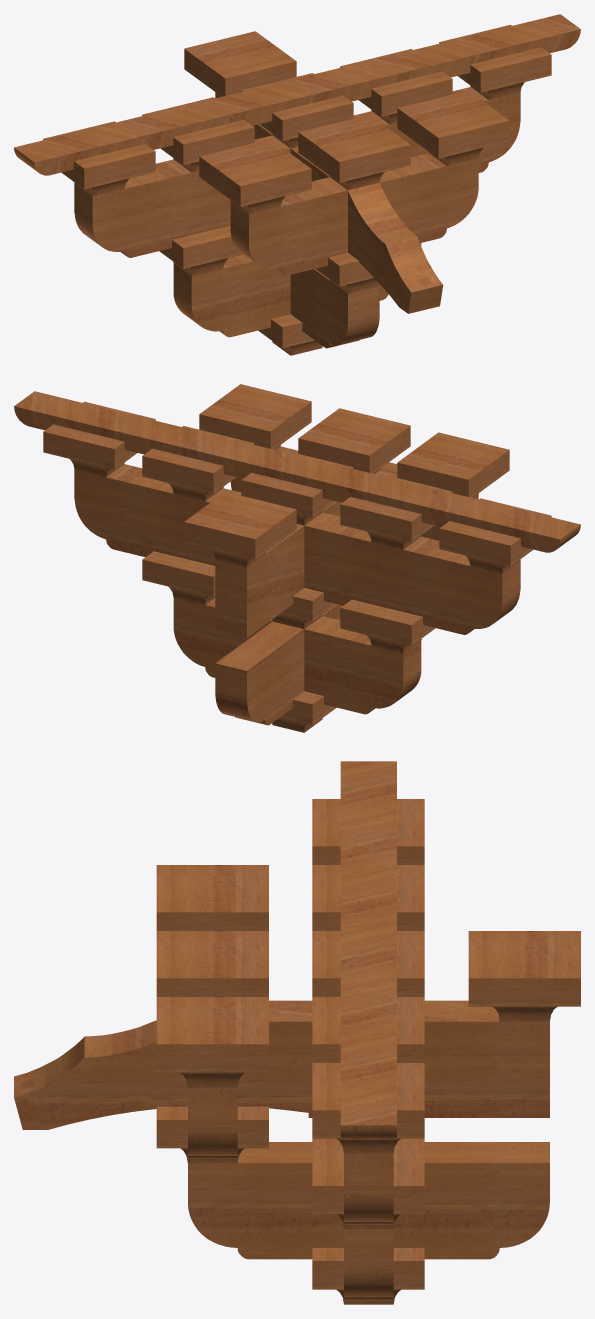
3 views of the same model, one above another, from view 1: azimuth 30°, elevation 25°; view 2: azimuth 150°, elevation 25°; view 3: azimuth 270°, elevation 25° (orthographic). The views are drawn at different scales.
Parts seen in each view (by area): view 1: R3L4; view 2: R3L4; view 3: R3L4.
Part boxes in pixels (x1,y1,x2,y2): R3L4: [14, 14, 580, 355]; R3L4: [14, 384, 580, 732]; R3L4: [14, 761, 580, 1304].
Size of the model in its own units: 52.24 by 23.48 by 34.38.
Materials: 1 (1 with a texture image).
